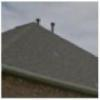chimneys: (50, 20, 56, 36), (36, 16, 43, 28)
